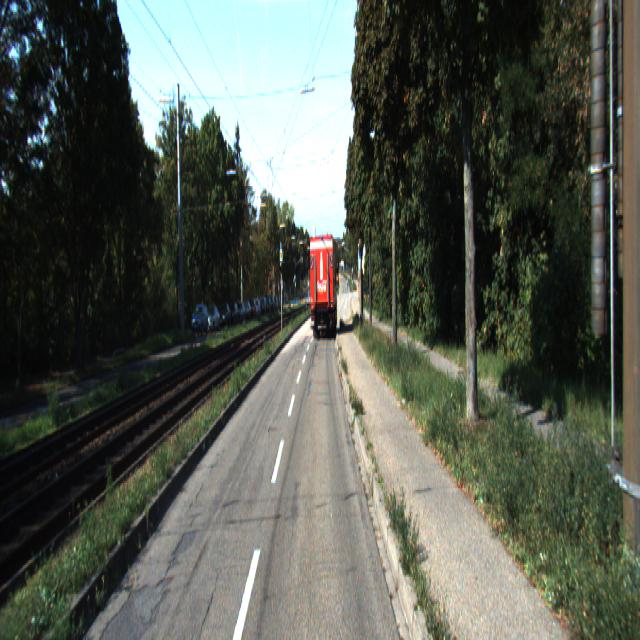Car: (309, 233, 338, 340), (190, 304, 209, 338)
